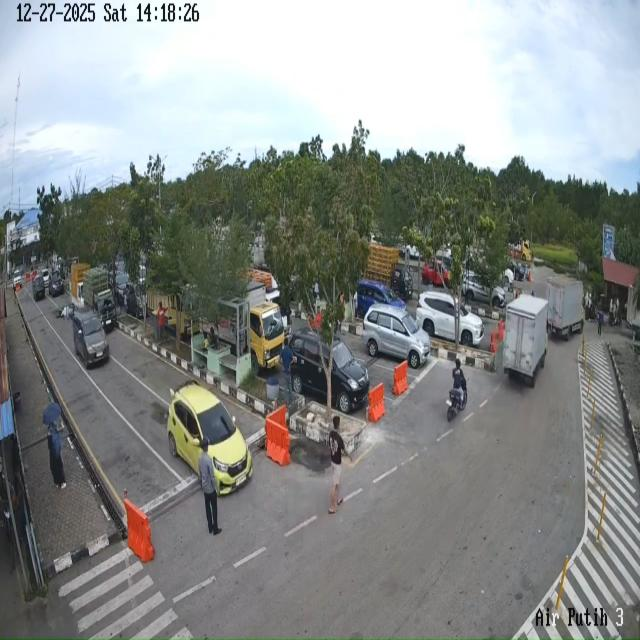Golongan IVA: (167, 380, 253, 496), (290, 328, 370, 413), (363, 304, 430, 369), (416, 291, 484, 347), (72, 310, 109, 369), (356, 279, 406, 318), (462, 271, 506, 307), (48, 271, 64, 297), (32, 274, 45, 301)
Golongan IVB: (364, 242, 414, 300), (83, 267, 117, 331)
Golongan VB: (503, 294, 548, 388), (547, 275, 584, 340)
